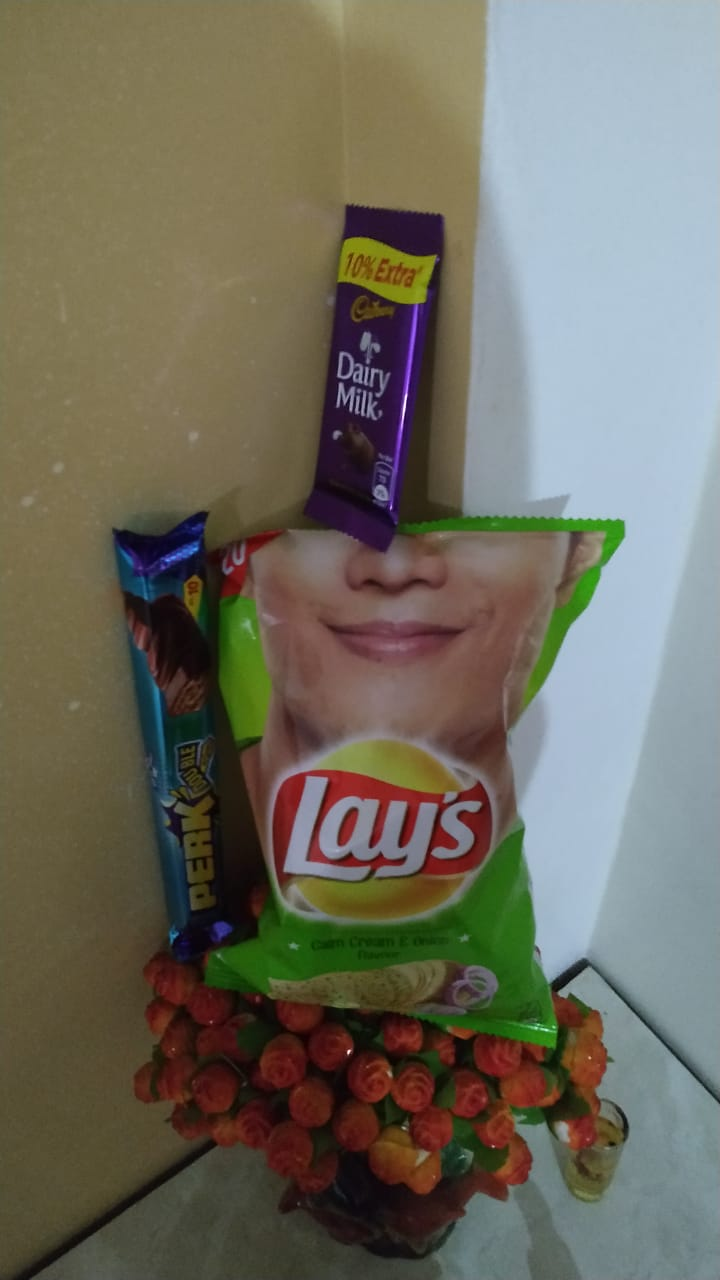dairy milk: (299, 192, 443, 539)
lays chips: (223, 521, 572, 1037)
perk: (103, 508, 266, 943)
